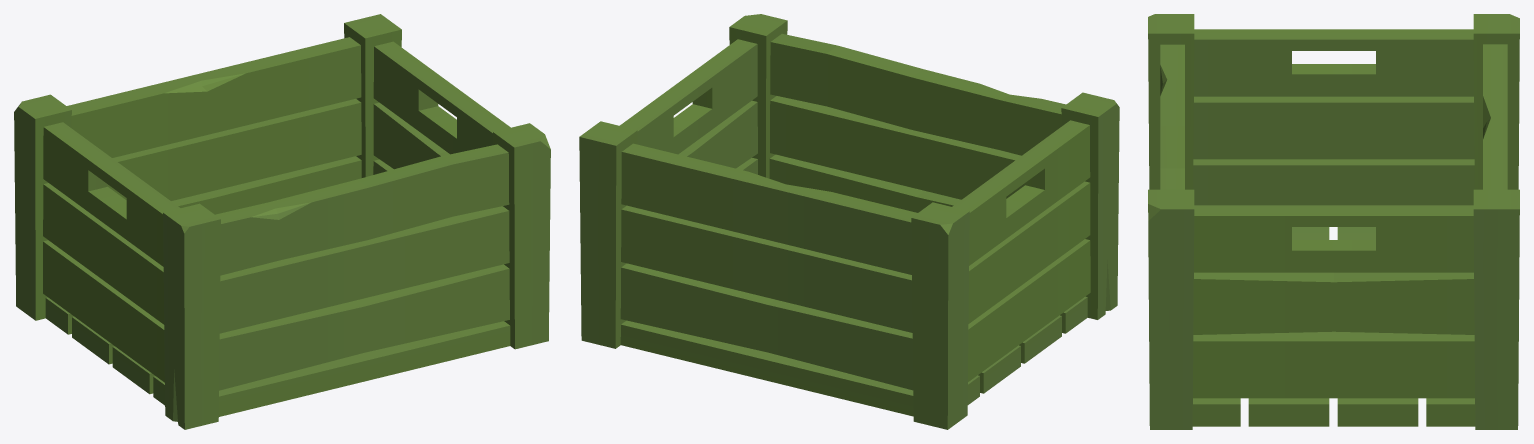
3 renders of one model, left to right at view 1: azimuth 30°, elevation 25°; view 2: azimuth 150°, elevation 25°; view 3: azimuth 270°, elevation 25°, orthographic. The views are drawn at different scales.
Parts seen in each view (by area): view 1: Box_03; view 2: Box_03; view 3: Box_03.
Part boxes in pixels (box(x1,y1,x2,y2)): Box_03: box(14, 14, 550, 429); Box_03: box(579, 14, 1119, 429); Box_03: box(1148, 14, 1519, 429).
Size of the model in its own units: 0.666 by 0.3518 by 0.5355.
